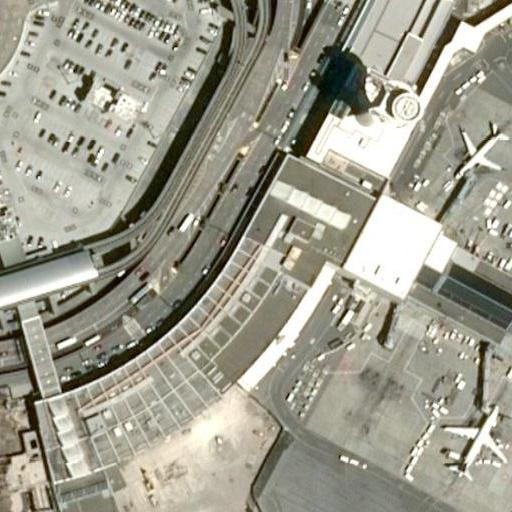Aircraft: (444, 401, 506, 472), (449, 118, 509, 180)
